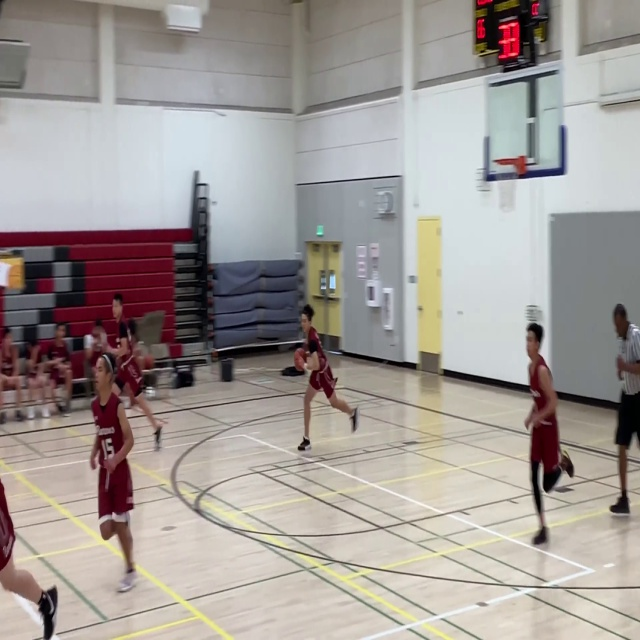Basketball: (294, 348, 307, 372), (135, 355, 154, 370), (144, 355, 154, 369)
